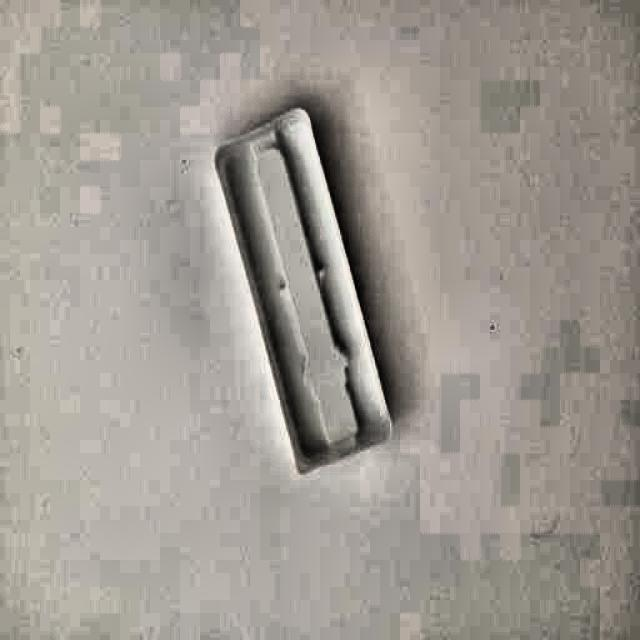plastic: (210, 110, 396, 474)
